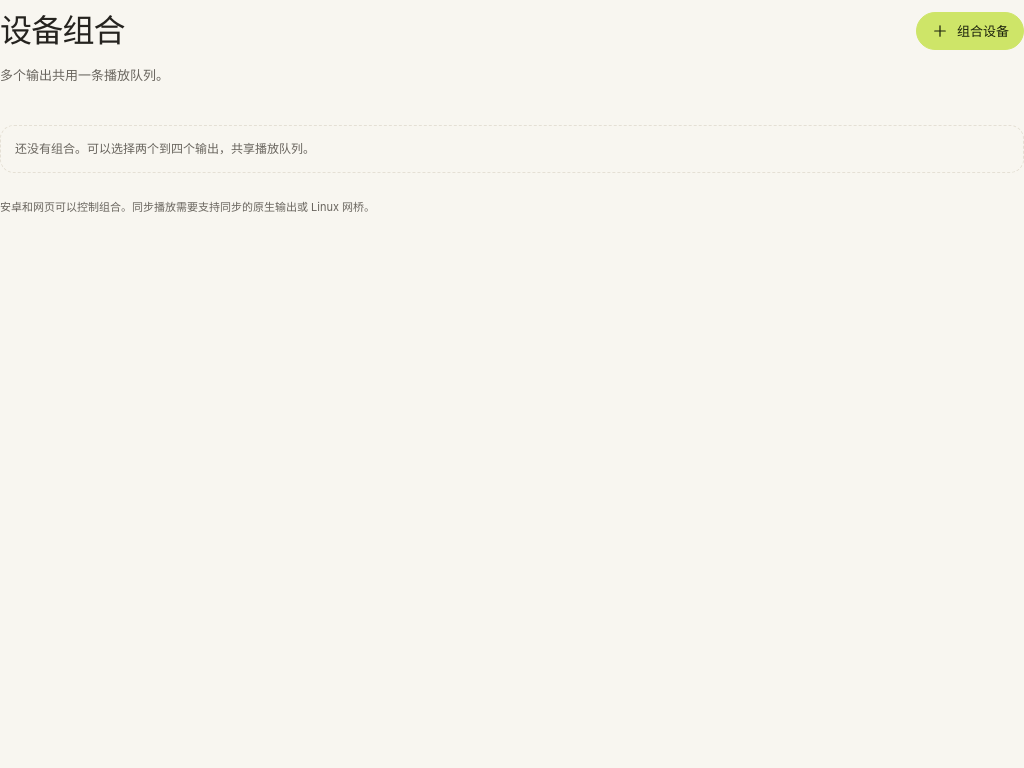
Test case: 创建只提交设备和队列来源，不再让用户选择歌单或开启临时分组任务
Later steps or results of the test are not shown.
Click the button "组合设备" at x=970, y=31, box [916,12,1023,50]
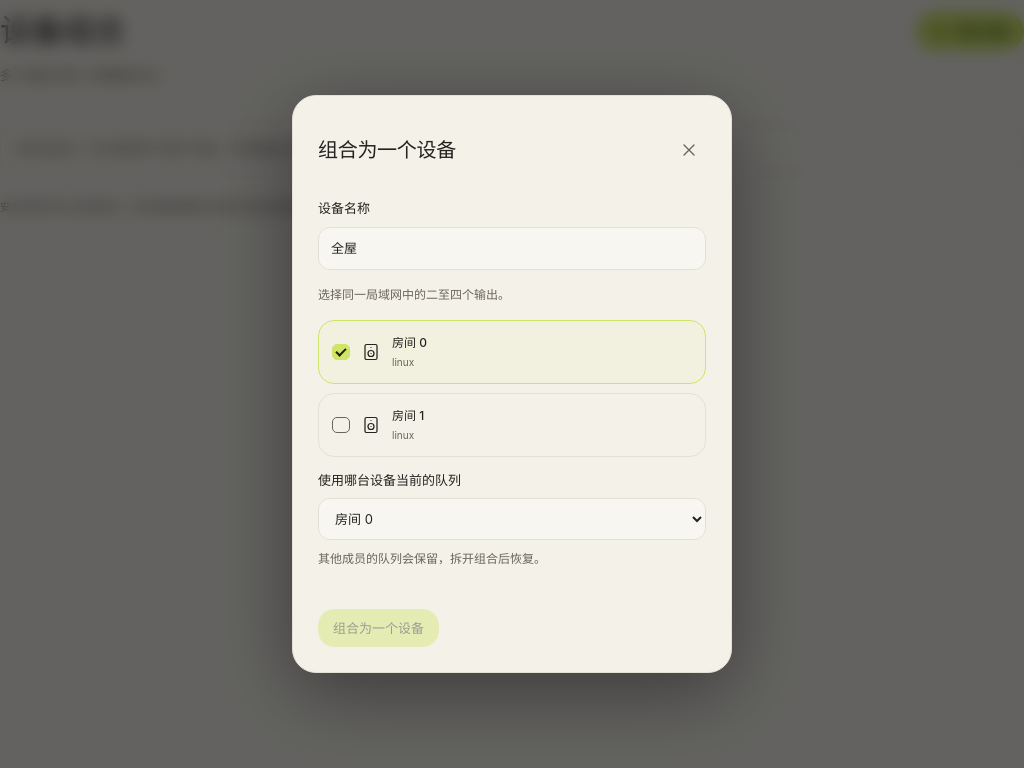
Now the text "使用哪台设备当前的队列" is shown, box [318,472,461,488]
